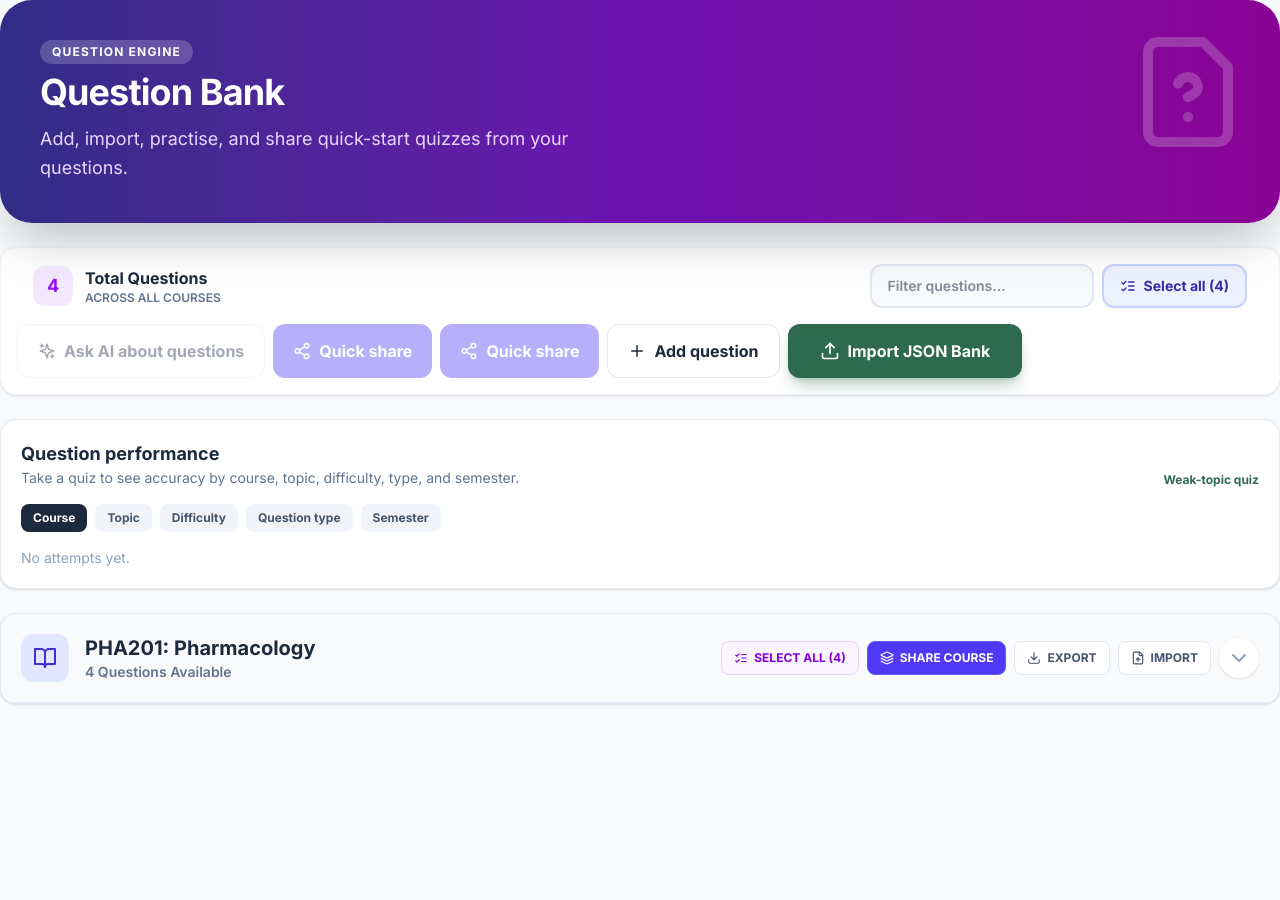
Scenario: filtering the bank › narrows the bank by free text and opens the matches by itself
The width and height of the screenshot is (1280, 900).
Type "propranolol" into the field with test id "question-filter-input" at [982, 286], box [870, 264, 1094, 308]
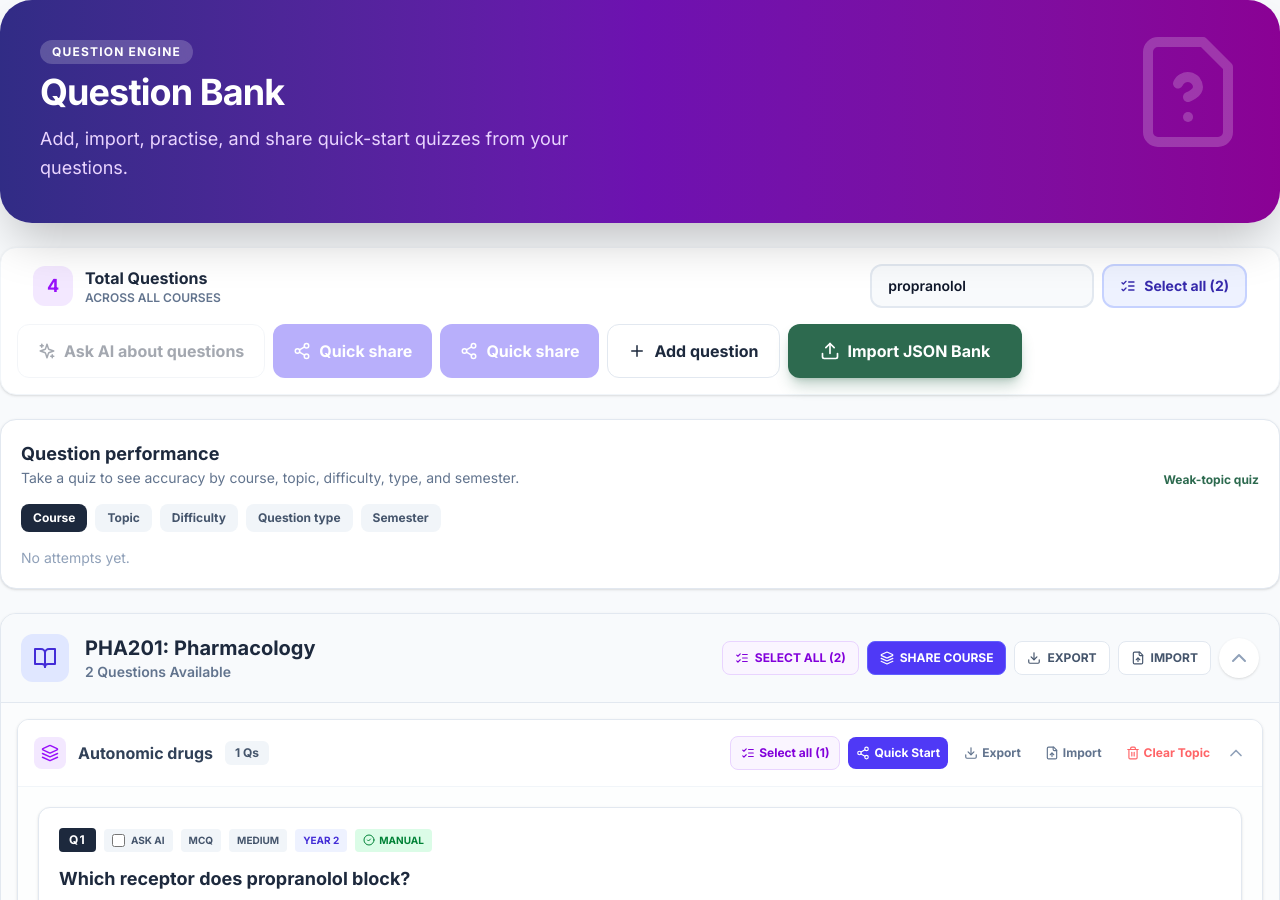
Now the heading "Which receptor does propranolol block?" is shown, box [59, 868, 410, 888]
Now the button with test id "select-all-questions" shows "2", box [1102, 264, 1247, 308]
